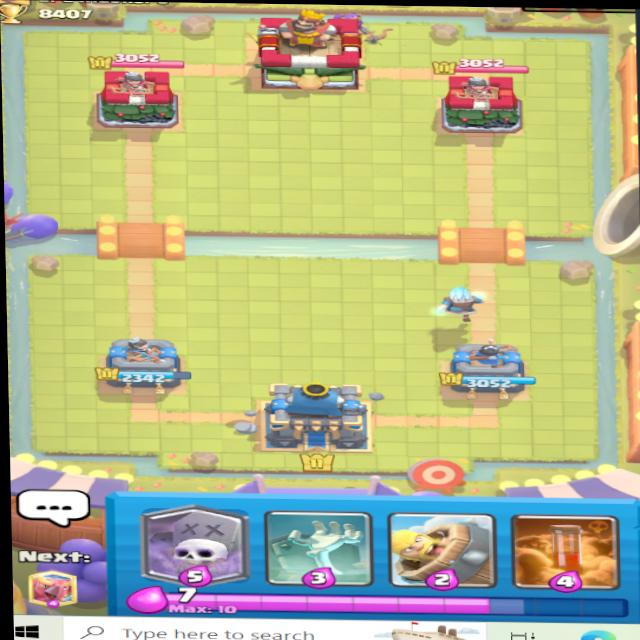archer-queen: (329, 5, 396, 46)
